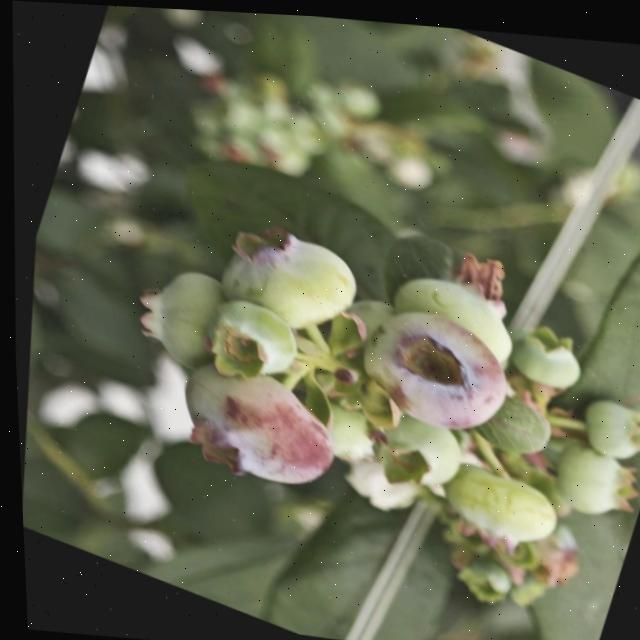Semi-RipeBlueBerry: (152, 347, 352, 509), (333, 286, 521, 450)
UnripeBlueBerry: (197, 208, 367, 353), (181, 289, 305, 402)
